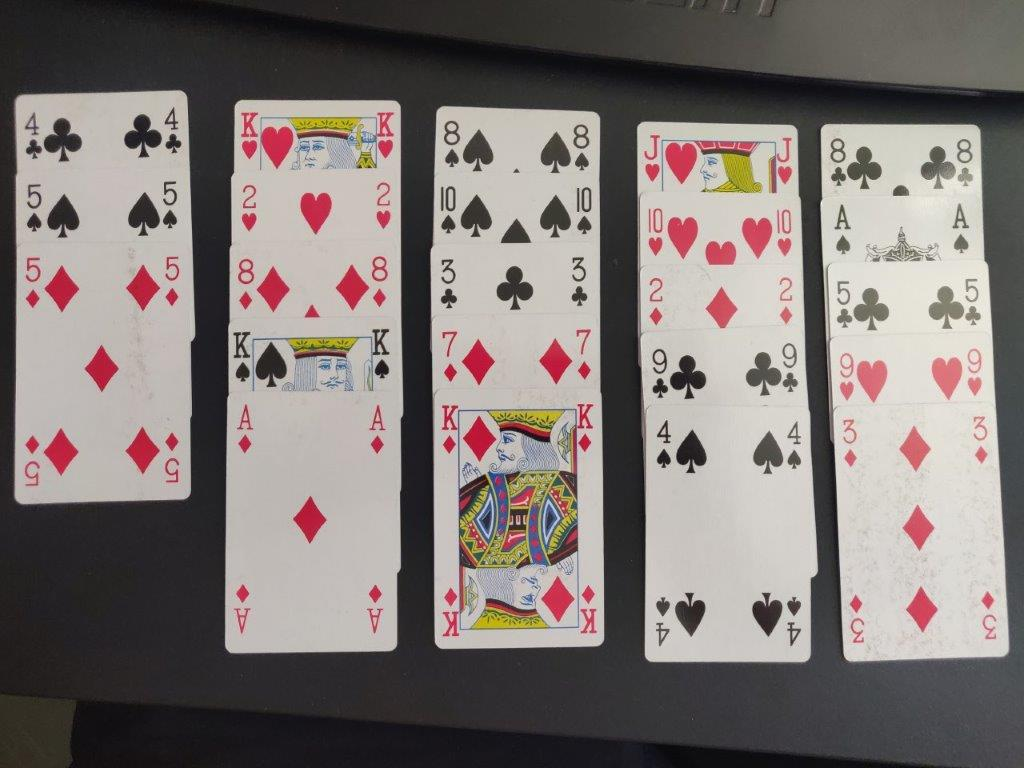10H: (641, 205, 667, 260), (770, 206, 795, 259)
10S: (435, 182, 459, 239), (573, 184, 595, 238)
2D: (644, 275, 666, 329), (774, 273, 796, 326)
2H: (236, 183, 261, 236), (374, 178, 394, 235)
3C: (437, 255, 461, 314), (569, 253, 591, 310)
3D: (838, 415, 865, 475), (968, 413, 993, 470)
4C: (17, 107, 44, 162), (163, 105, 184, 158)
4S: (651, 417, 674, 472), (785, 418, 805, 474)
5C: (961, 275, 985, 329), (832, 278, 856, 331)
5D: (22, 254, 42, 314), (164, 253, 181, 309)
5S: (22, 181, 46, 235), (160, 179, 183, 231)
7D: (438, 329, 461, 383), (573, 326, 594, 382)
8C: (952, 137, 976, 192), (825, 136, 849, 189)
8D: (367, 252, 391, 313), (235, 256, 257, 315)
8S: (438, 118, 462, 173), (571, 122, 593, 172)
9C: (646, 347, 672, 400), (779, 341, 801, 396)
9H: (962, 345, 987, 400), (835, 349, 859, 403)
AD: (233, 398, 258, 458), (365, 402, 389, 458)
AS: (830, 201, 854, 259), (950, 201, 973, 256)
JH: (640, 132, 664, 184), (773, 135, 795, 187)
KD: (436, 401, 459, 456), (574, 400, 595, 455)
KH: (237, 108, 262, 164), (374, 109, 397, 162)
KS: (370, 326, 395, 383), (229, 328, 253, 385)
